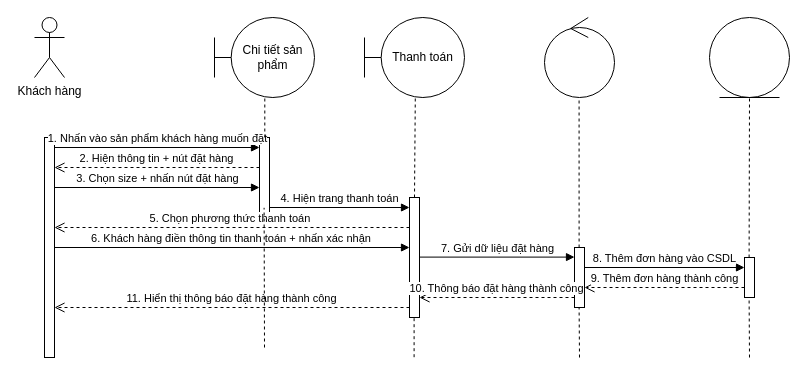
Some shapes in this 807 by 376 pixel diagram are drawn without their labels. The shapes that lost their labels are listed below. From the top down, each one's centre as x and y in pixels, then its label:
At pixel 579 57: "Control_đặt hàng".
At pixel 749 57: "CSDL_đặt hàng".
